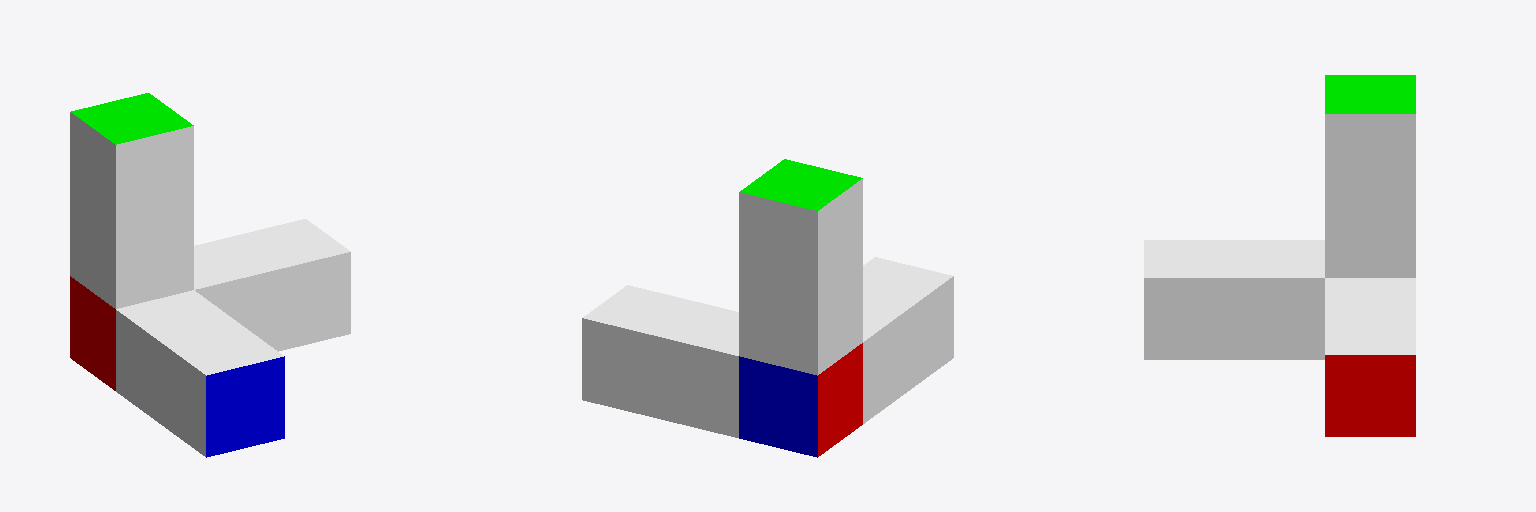
The model's file is thing.obj.
3 views of the same model, side by side, from view 1: azimuth 30°, elevation 25°; view 2: azimuth 150°, elevation 25°; view 3: azimuth 270°, elevation 25° (orthographic).
Parts seen in each view (by area): view 1: cube2; view 2: cube2; view 3: cube2.
Part boxes in pixels (x1,y1,x2,y2): cube2: (70, 93, 350, 457); cube2: (582, 159, 953, 457); cube2: (1144, 75, 1415, 436).
Bounding box in the file's own units: 3 × 3 × 3.